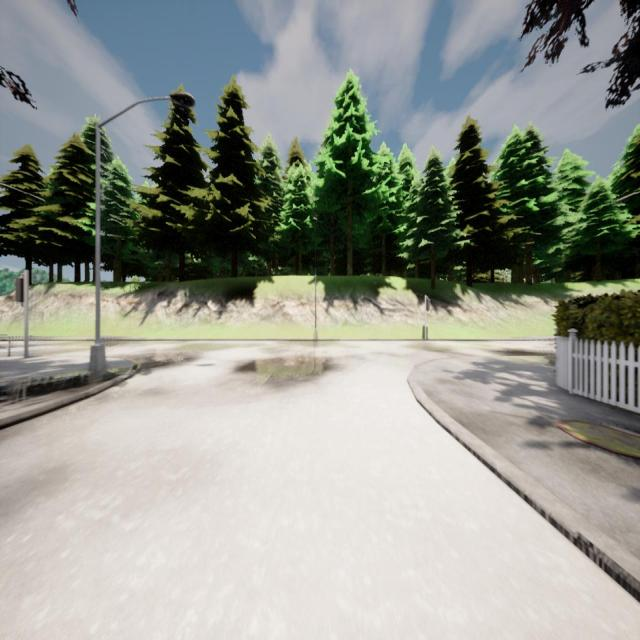traffic_light: (15, 278, 24, 303), (426, 298, 430, 311)
